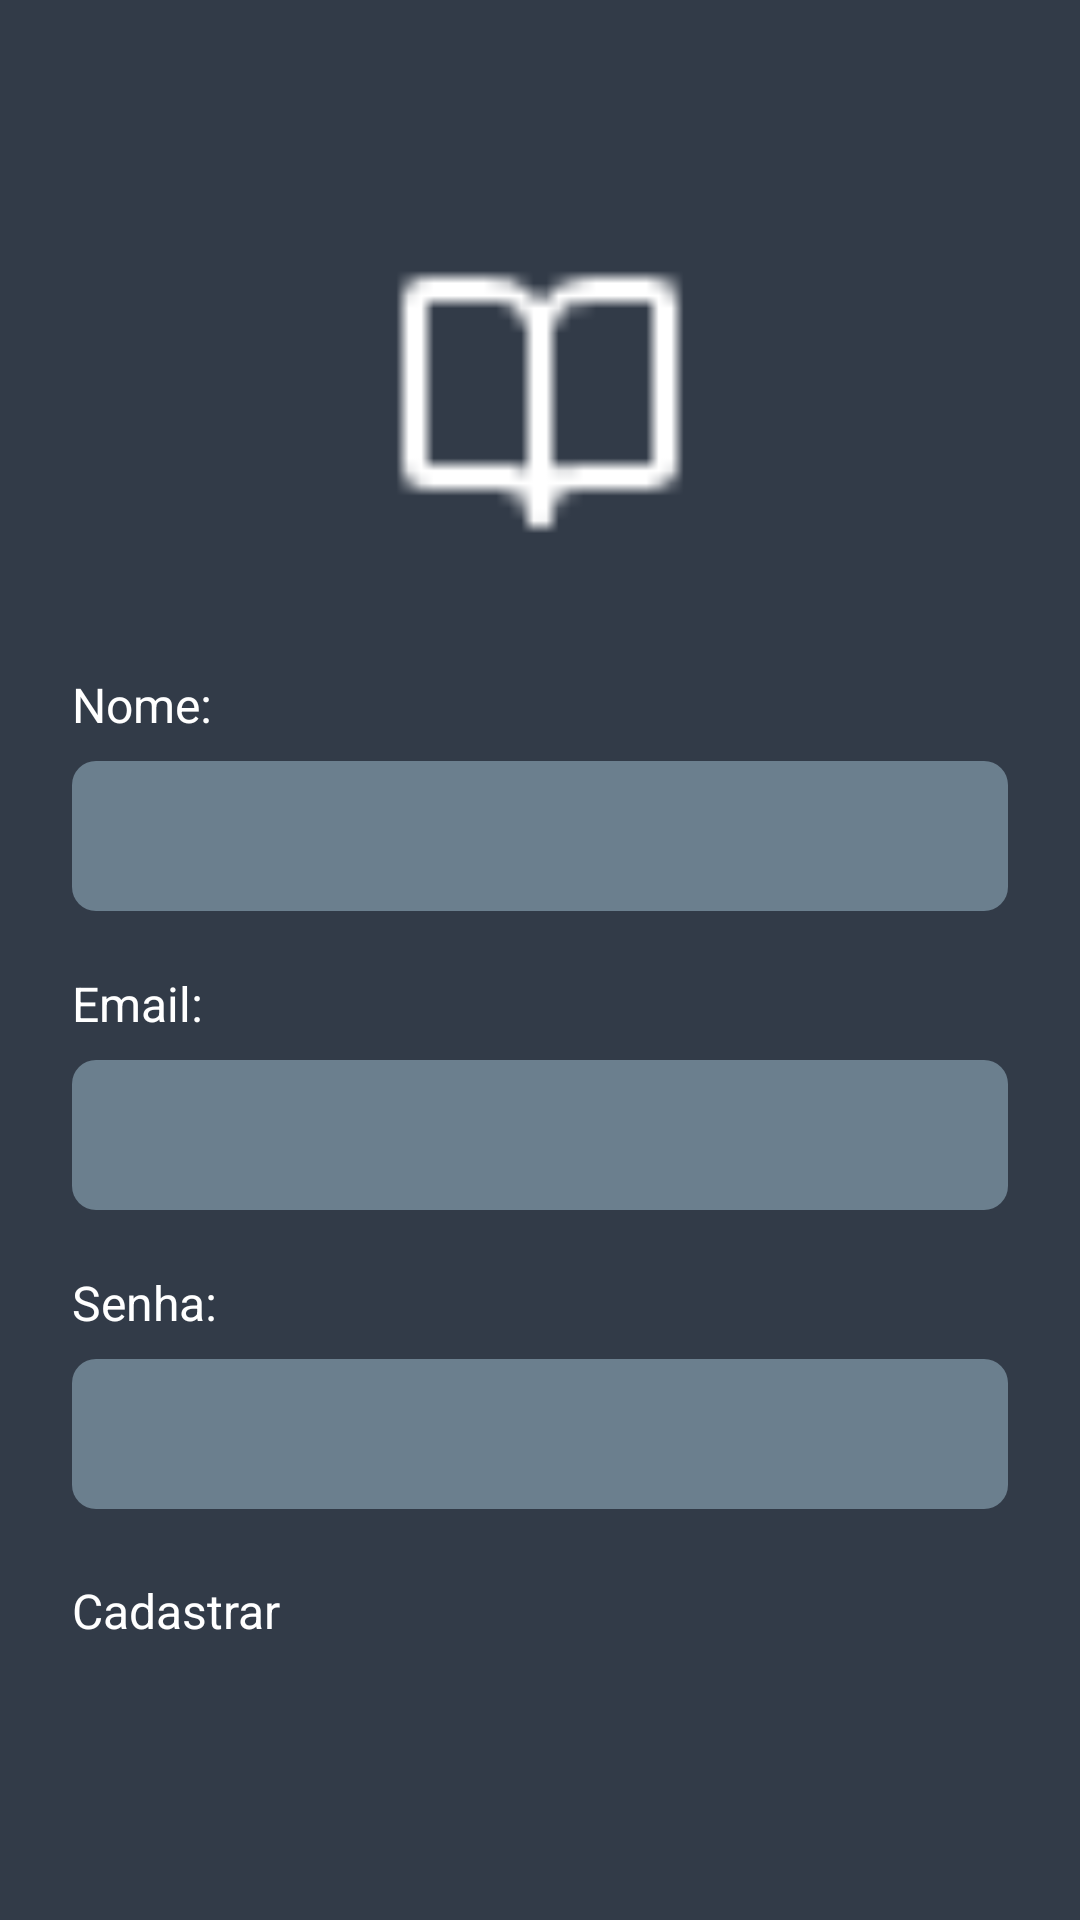

Icon bounding boxes for this 1080 x 1920 phone screenshot, format (x1, y1, x2, y2):
book: (398, 272, 682, 532)
